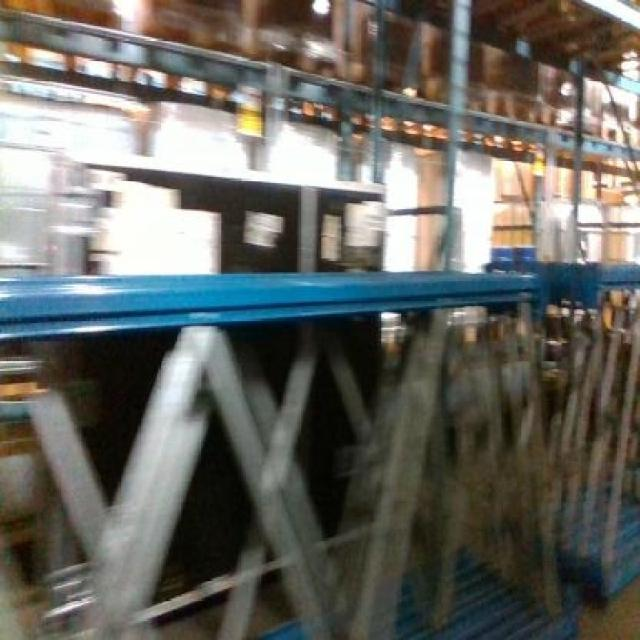pallets: (0, 268, 637, 637)
